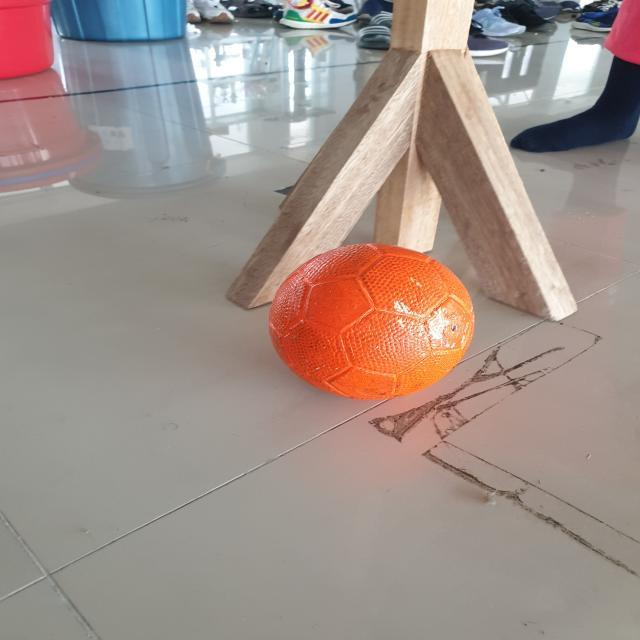bola: (262, 234, 484, 402)
